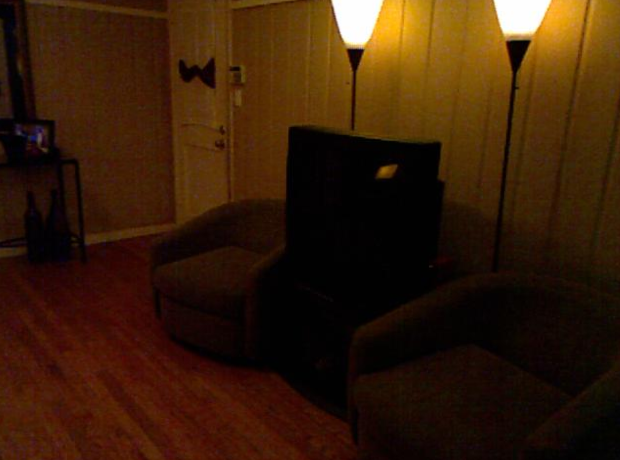couch: (349, 272, 620, 458), (155, 199, 285, 333)
door: (172, 9, 226, 195)
